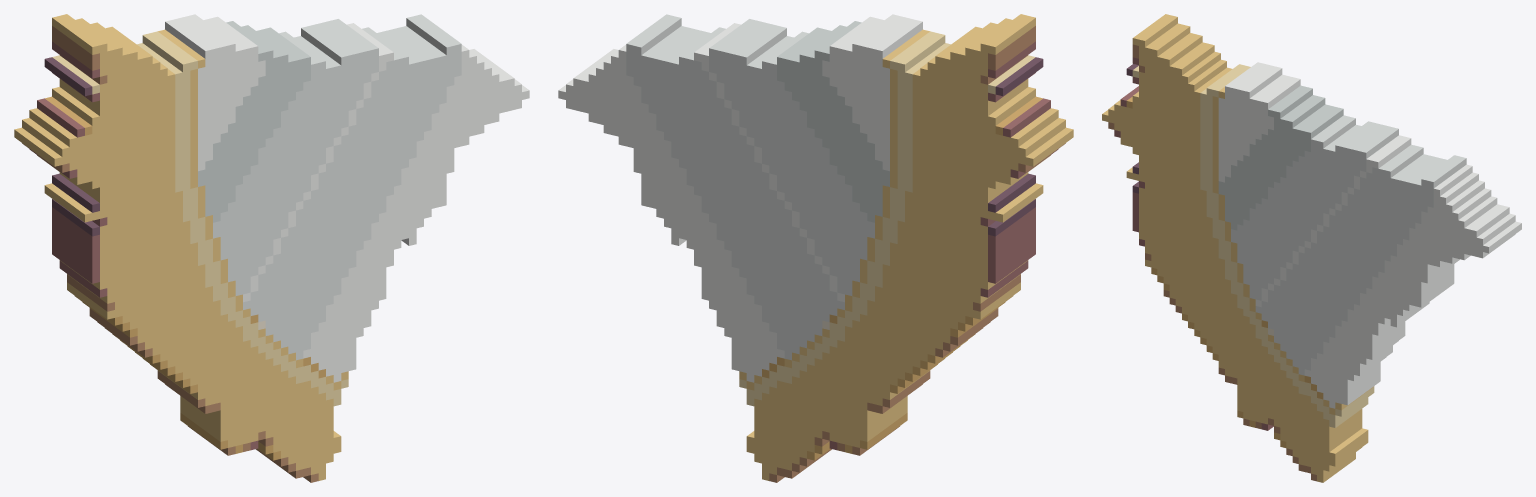
Rendered from mirror shard 6.fbx.
3 renders of one model, left to right at view 1: azimuth 30°, elevation 25°; view 2: azimuth 150°, elevation 25°; view 3: azimuth 330°, elevation 25°, orthographic. The views are drawn at different scales.
Visible parts, largest first — view 1: mirror shard 6.png; view 2: mirror shard 6.png; view 3: mirror shard 6.png.
Part boxes in pixels (<box>): mirror shard 6.png: <box>14,14,529,482</box>; mirror shard 6.png: <box>558,14,1073,482</box>; mirror shard 6.png: <box>1102,14,1521,482</box>.
Size of the model in its own units: 33.99 by 33.45 by 5.
